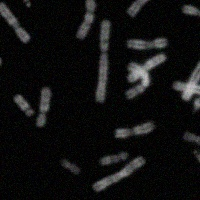chromosome: (92, 156, 146, 192), (0, 1, 32, 43), (127, 52, 169, 81), (95, 20, 108, 102), (181, 48, 200, 99), (125, 63, 150, 98), (128, 0, 181, 16), (75, 0, 94, 39), (112, 121, 155, 138), (36, 88, 50, 128), (99, 150, 128, 167), (125, 38, 168, 49), (14, 93, 34, 116), (172, 81, 200, 97), (182, 5, 200, 26), (61, 158, 80, 175), (183, 131, 200, 144), (193, 149, 200, 168), (191, 97, 200, 110), (22, 0, 33, 8), (0, 56, 1, 101)
